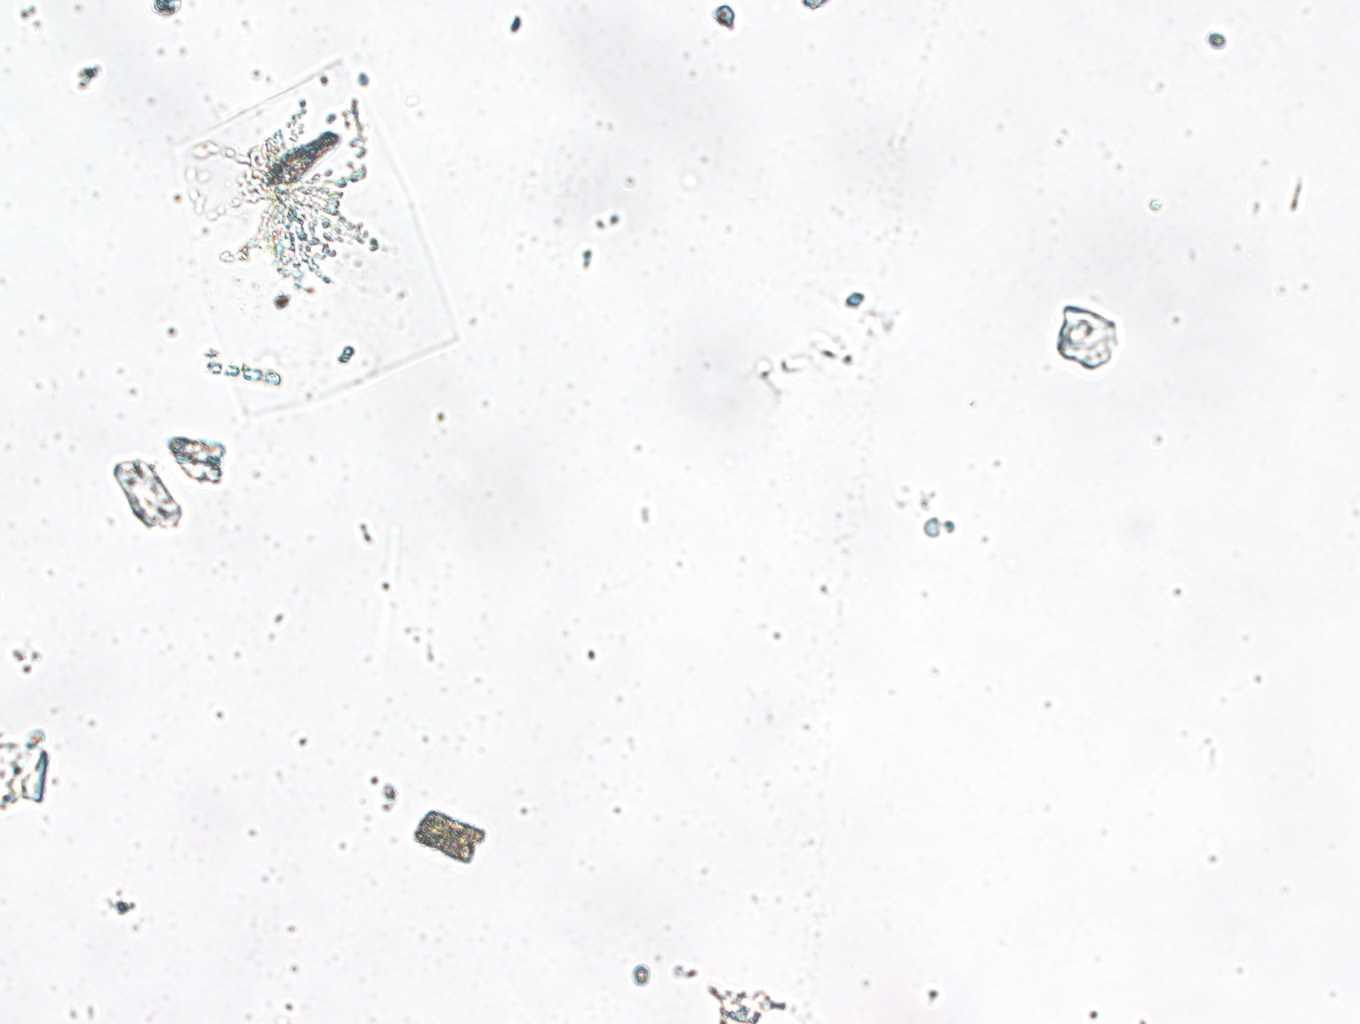helicotheca: (170, 59, 458, 415)
